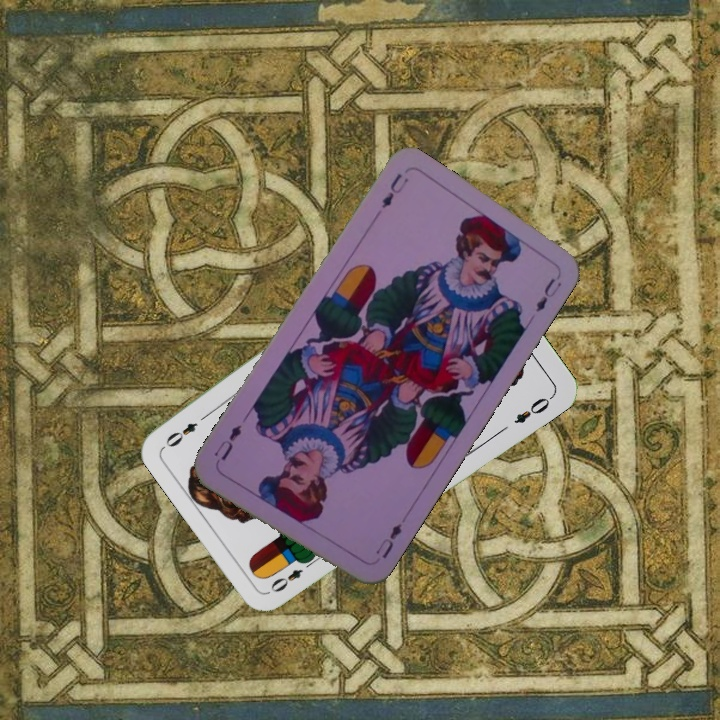EO: (266, 554, 318, 595)
EU: (371, 519, 405, 561), (377, 169, 411, 211)
